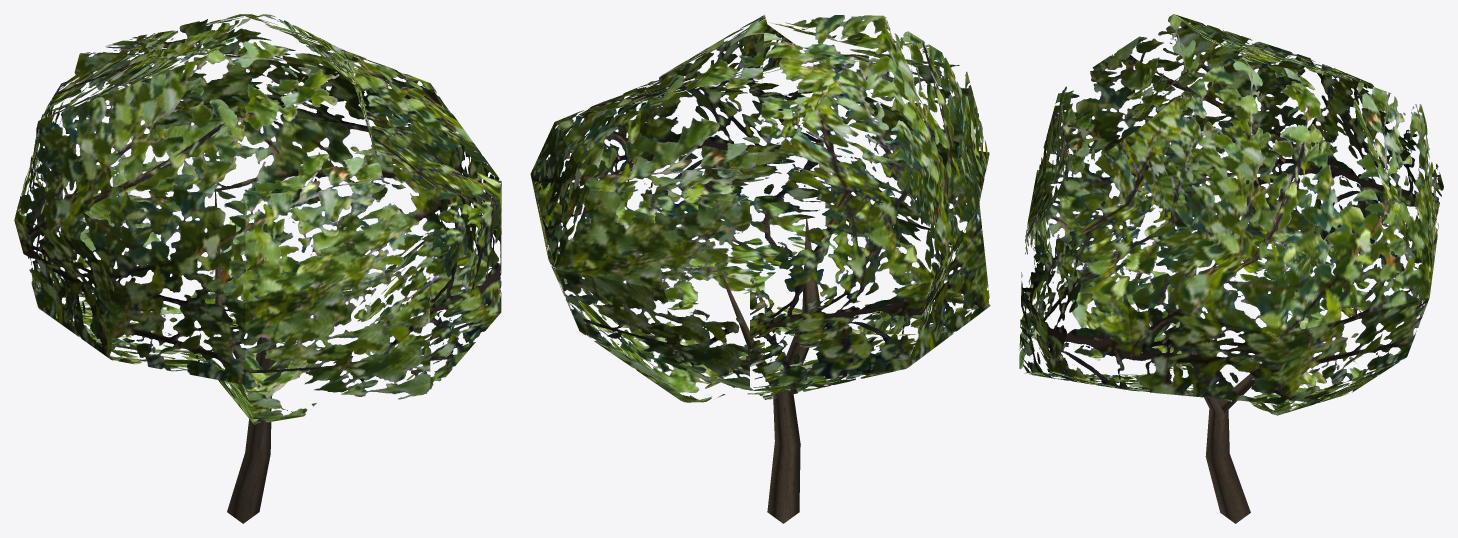
The model's file is ArvoreFolhaVerdeLOW.fbx.
3 views of the same model, side by side, from view 1: azimuth 30°, elevation 25°; view 2: azimuth 150°, elevation 25°; view 3: azimuth 270°, elevation 25° (orthographic). The views are drawn at different scales.
Visible parts, largest first — view 1: ArvoreFolhaVerdeLOW; view 2: ArvoreFolhaVerdeLOW; view 3: ArvoreFolhaVerdeLOW.
Part boxes in pixels (x1,y1,x2,y2): ArvoreFolhaVerdeLOW: (14,14,501,523); ArvoreFolhaVerdeLOW: (530,15,990,523); ArvoreFolhaVerdeLOW: (1019,14,1443,523).
Bounding box in the file's own units: 13.41 × 15.14 × 12.38.
Materials: 2 (2 with a texture image).
